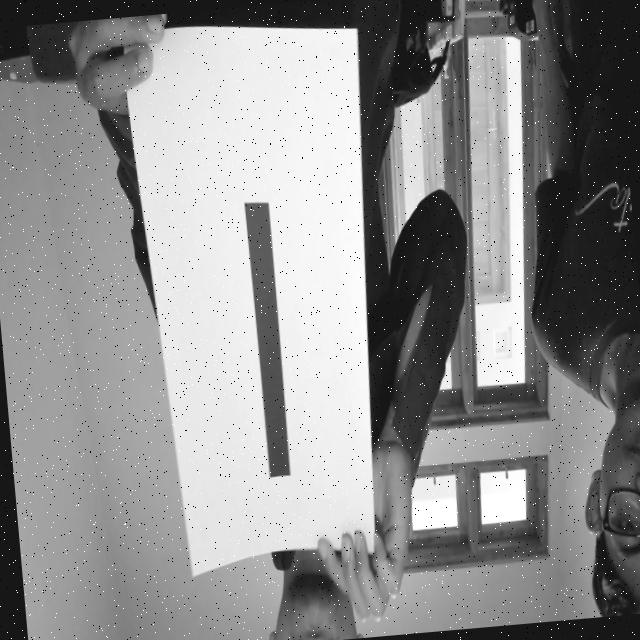i: (222, 177, 302, 488)
